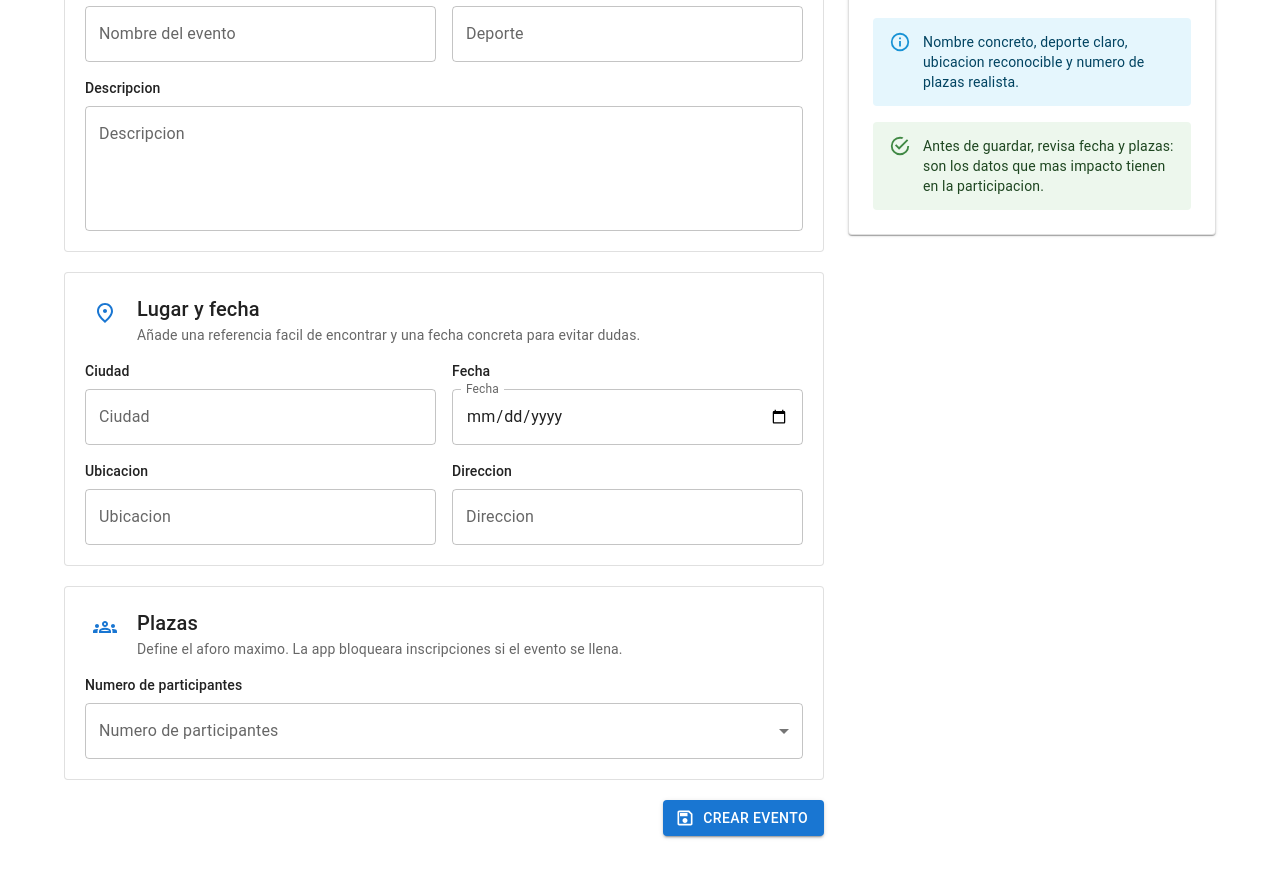
Test: CreateEvent › shows validation errors for empty form
(page scrolled)
Click the button "Crear evento" at {"x": 744, "y": 818}, box [663,800,824,836]
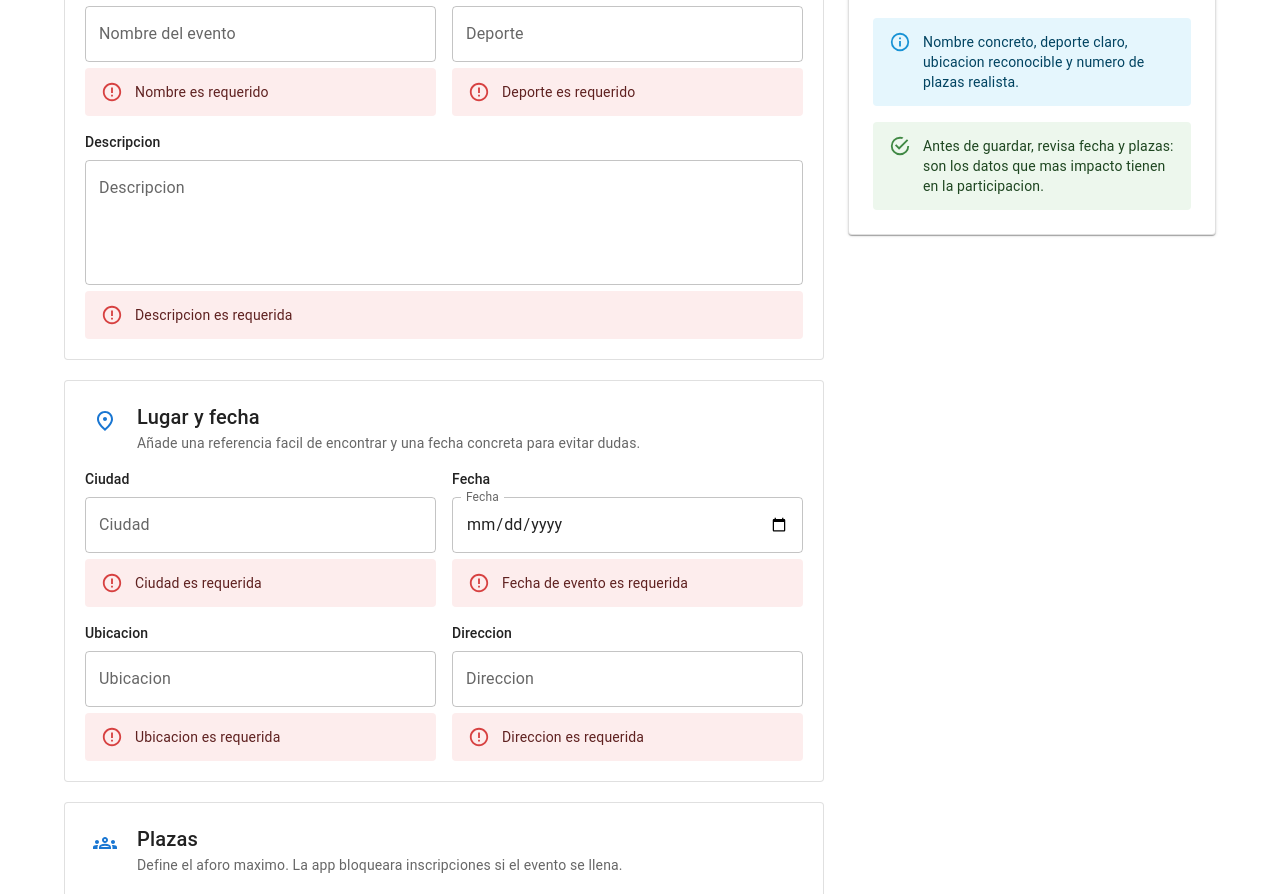
Check: the text "Nombre es requerido" is shown, box [135,84,269,100]
